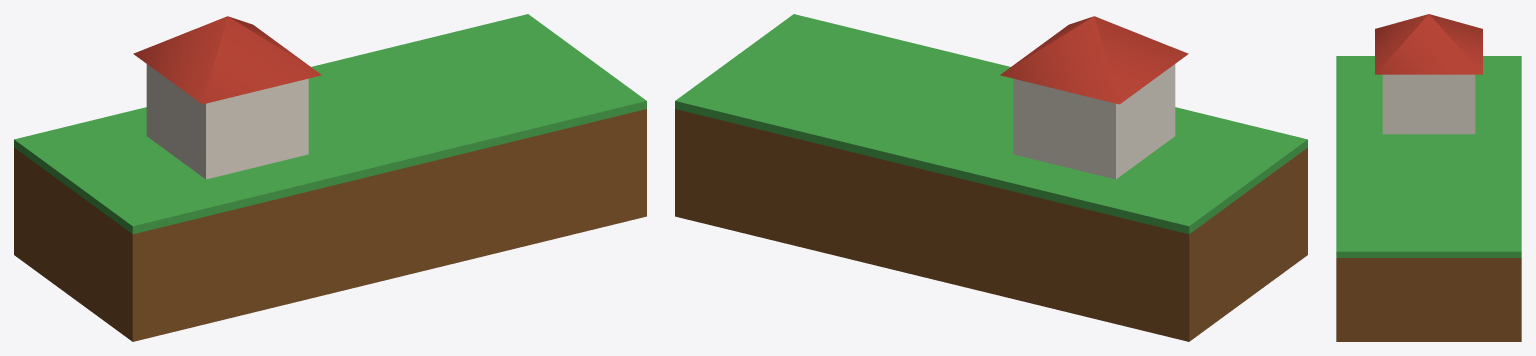
File: casa.glb
3 renders of one model, left to right at view 1: azimuth 30°, elevation 25°; view 2: azimuth 150°, elevation 25°; view 3: azimuth 270°, elevation 25°, orthographic. The views are drawn at different scales.
Parts seen in each view (by area): view 1: Tierra, Pasto, Casa, Techo; view 2: Tierra, Pasto, Casa, Techo; view 3: Pasto, Tierra, Techo, Casa.
Part boxes in pixels (x1,y1,x2,y2): Tierra: (14,109,646,341); Pasto: (14,14,646,234); Casa: (146,64,308,179); Techo: (133,16,321,104); Tierra: (675,109,1307,341); Pasto: (675,14,1307,234); Casa: (1013,64,1175,179); Techo: (1000,16,1188,104); Pasto: (1336,56,1521,257); Tierra: (1336,258,1521,341); Techo: (1375,14,1482,74); Casa: (1382,74,1475,134).
Bounding box in the file's own units: 20 × 9.1 × 8.
